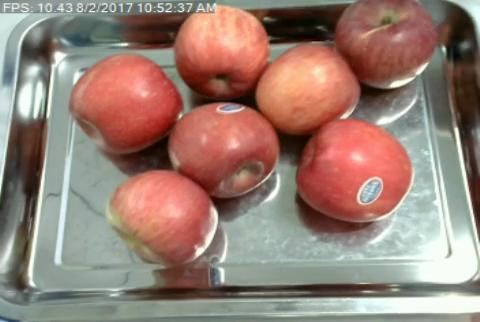apple: (295, 119, 413, 220), (69, 54, 180, 150), (108, 170, 217, 266), (171, 105, 278, 196), (256, 43, 358, 128), (335, 0, 431, 87), (176, 13, 269, 96)
